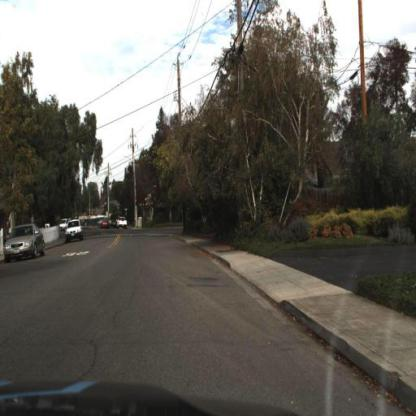car: (4, 226, 48, 262), (65, 219, 84, 246), (117, 216, 129, 230)
